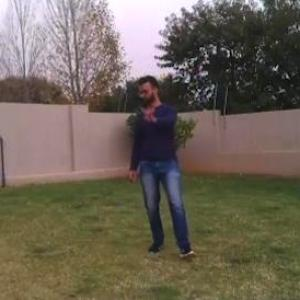takeoff-hand: (134, 98, 163, 126)
